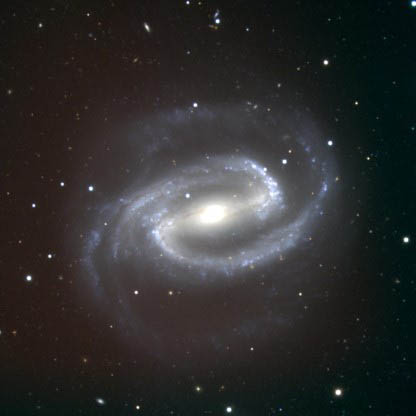NGC 1300: (59, 88, 362, 362)
